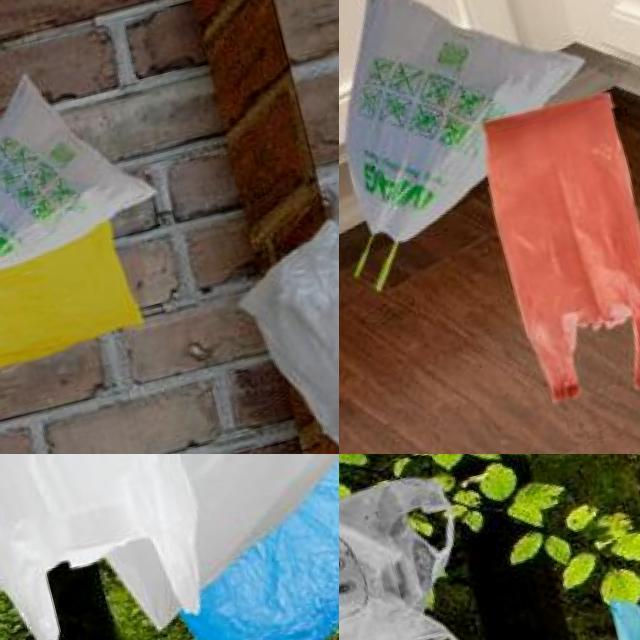waste: (339, 0, 615, 260), (20, 454, 339, 638), (481, 77, 640, 397), (120, 454, 339, 640), (0, 454, 212, 640), (0, 51, 172, 270), (0, 197, 148, 384), (339, 472, 496, 640), (239, 195, 339, 454)
